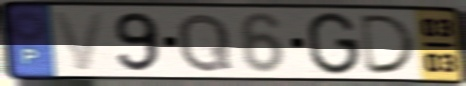6: (238, 10, 288, 76)
9: (112, 10, 162, 74)
D: (358, 13, 420, 76)
G: (306, 10, 362, 77)
Q: (175, 11, 235, 75)
V: (50, 9, 108, 73)
